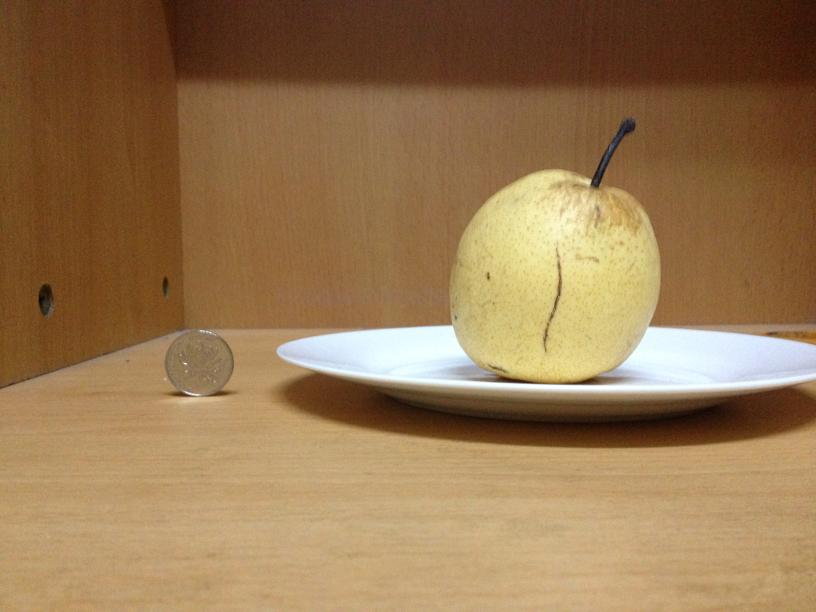coin: (162, 329, 235, 395)
pear: (443, 169, 661, 386)
